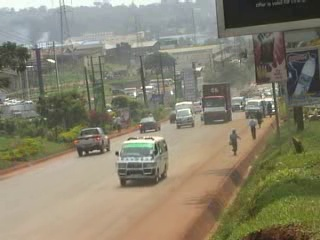Car: (135, 114, 163, 135), (167, 106, 179, 124)
